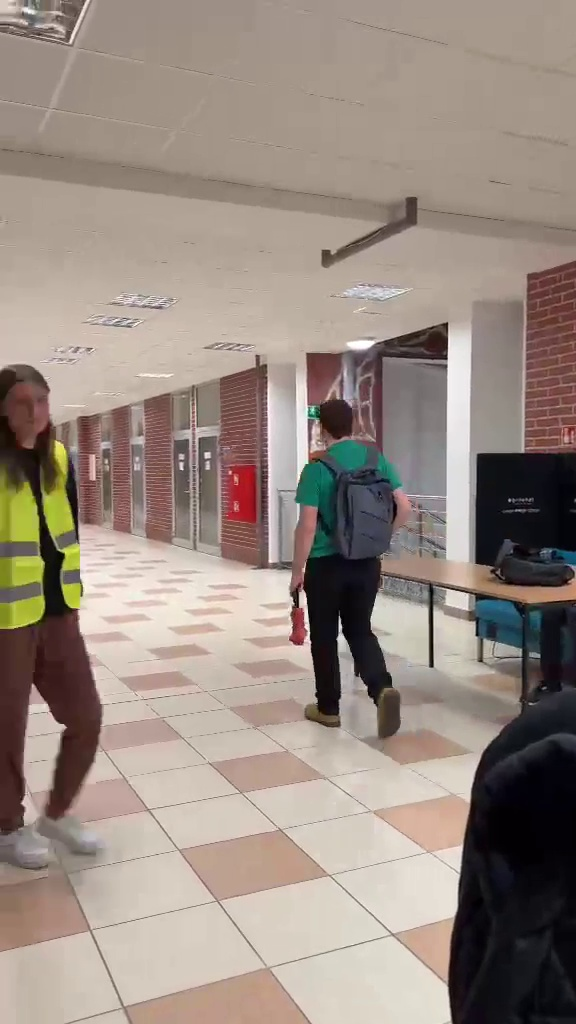no vest: (278, 395, 421, 744)
vest: (0, 365, 115, 863)
